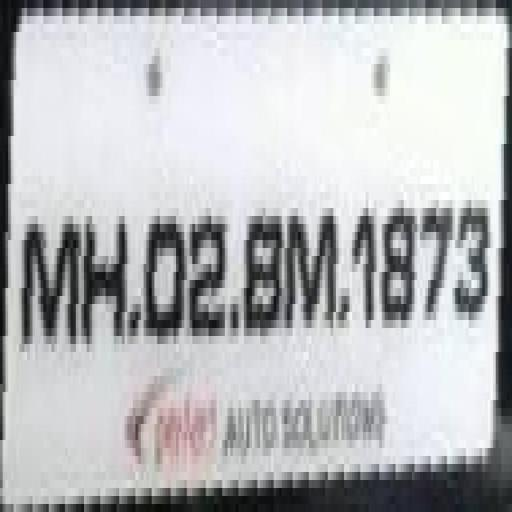number plate: (16, 24, 512, 464)
